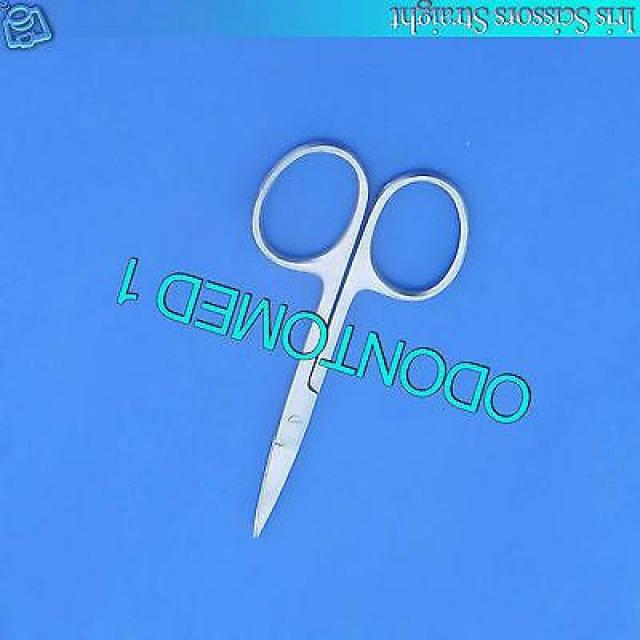Iris: (244, 132, 476, 546)
